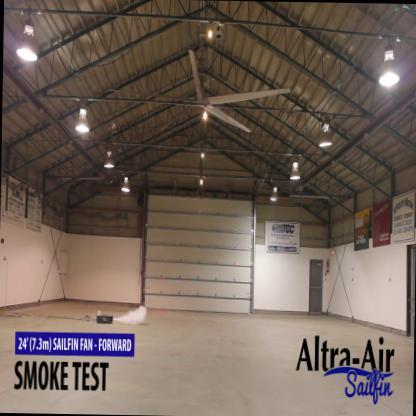smoke: (116, 300, 152, 330)
